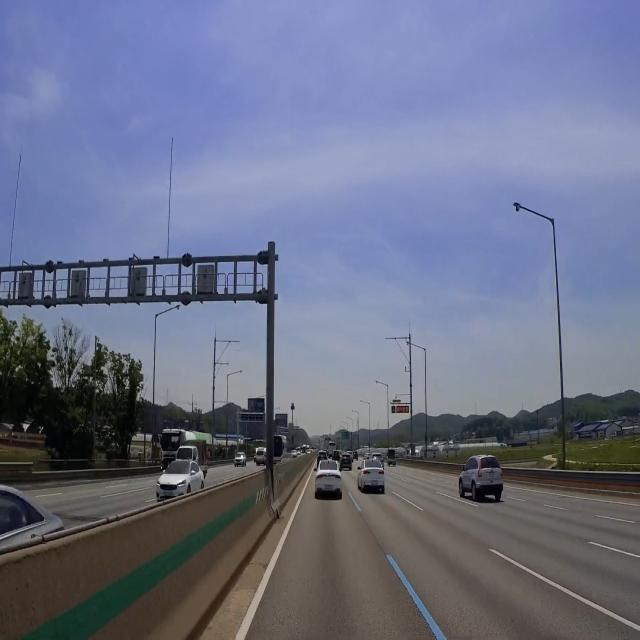car: (160, 488, 175, 504), (484, 468, 499, 483), (323, 481, 338, 496), (369, 480, 382, 491)
